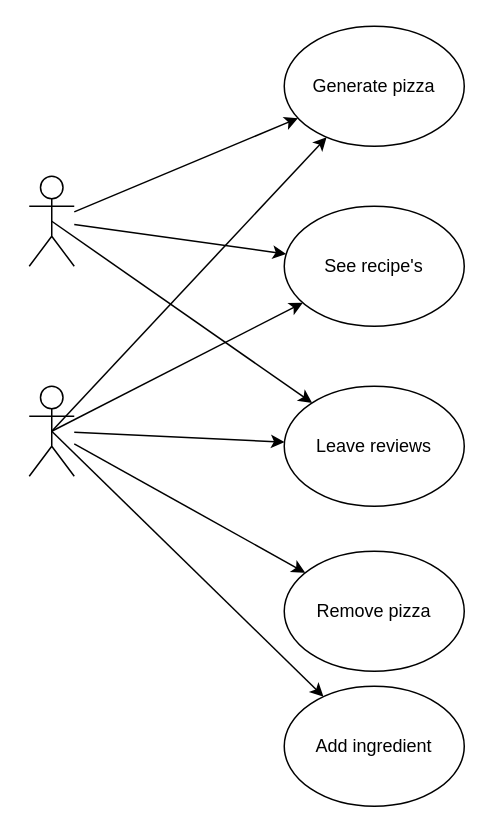
The diagram is 491 pixels wide and 833 high, and some of its shapes have lost their labels. The shapes that lost their labels are listed below. From the top down, each one's centre as x and y in pixels, then its label:
the point at 51,220: User
the point at 51,430: Admin
